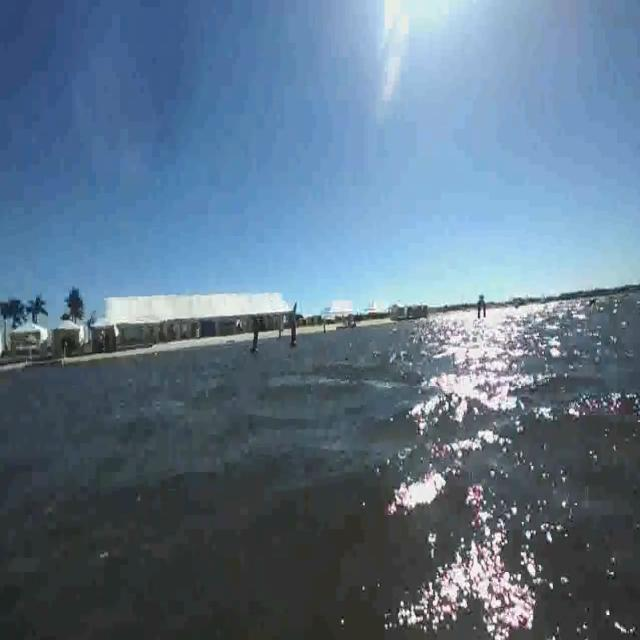green-column-buoy: (250, 325, 262, 355)
red-column-buoy: (289, 315, 298, 349)
